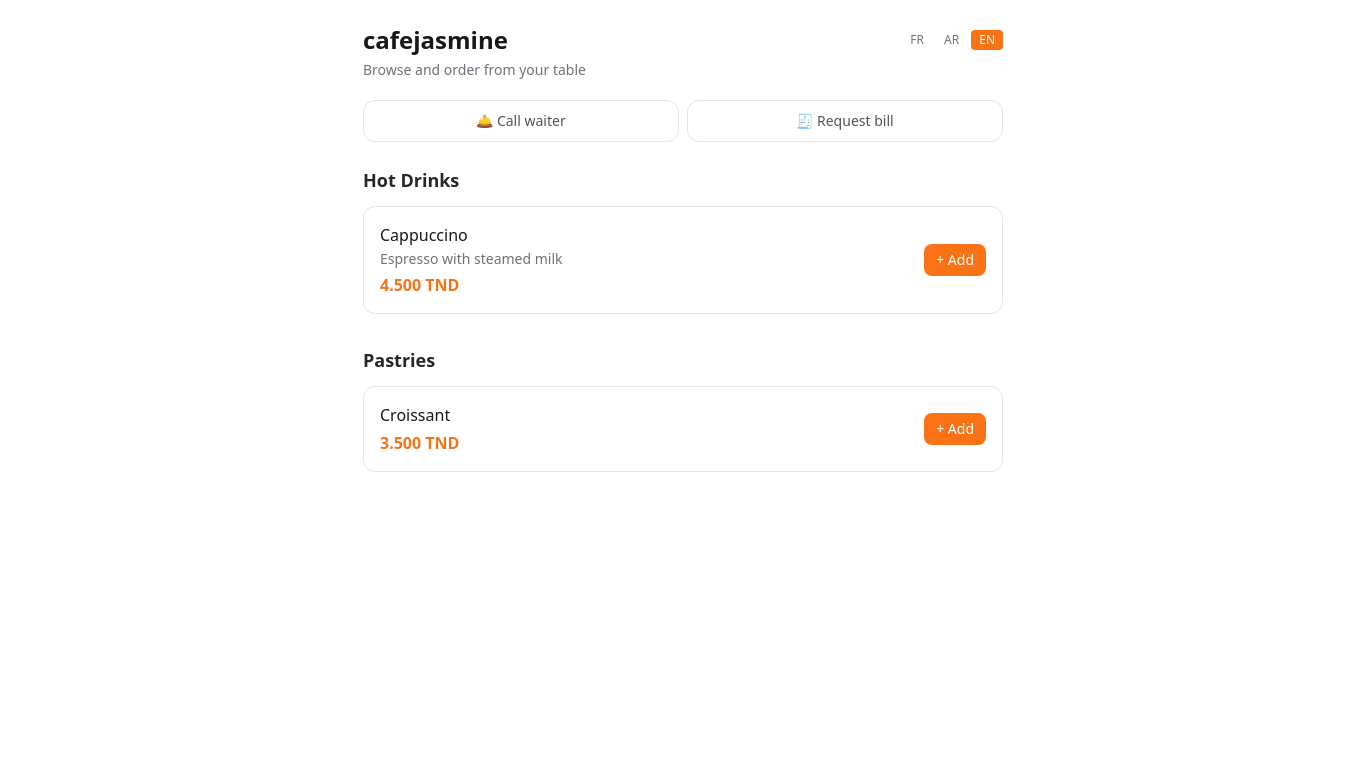
Test: CustomerMenu › removes item from cart when ✕ is clicked
Expected: the text "Cappuccino" is shown, 380,224 -> 468,246
What coordinates should you click on to do the following:
click the button "+ Add" in the row of "Espresso with steamed milk"
I would click on:
 (955, 260)
Its box is 924,244 -> 986,276.
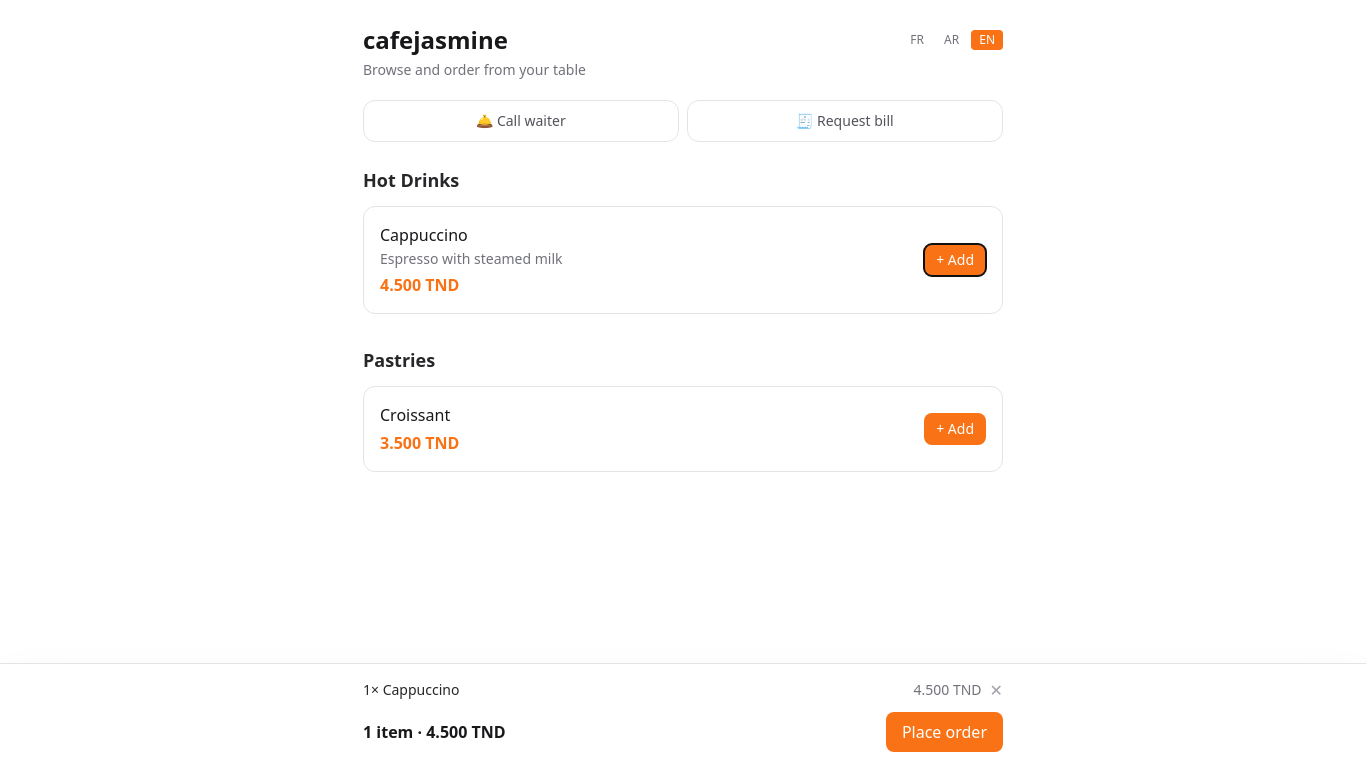
What coordinates should you click on to do the following:
click the button "✕"
I would click on:
 (996, 690)
Its box is 990,682 -> 1003,698.
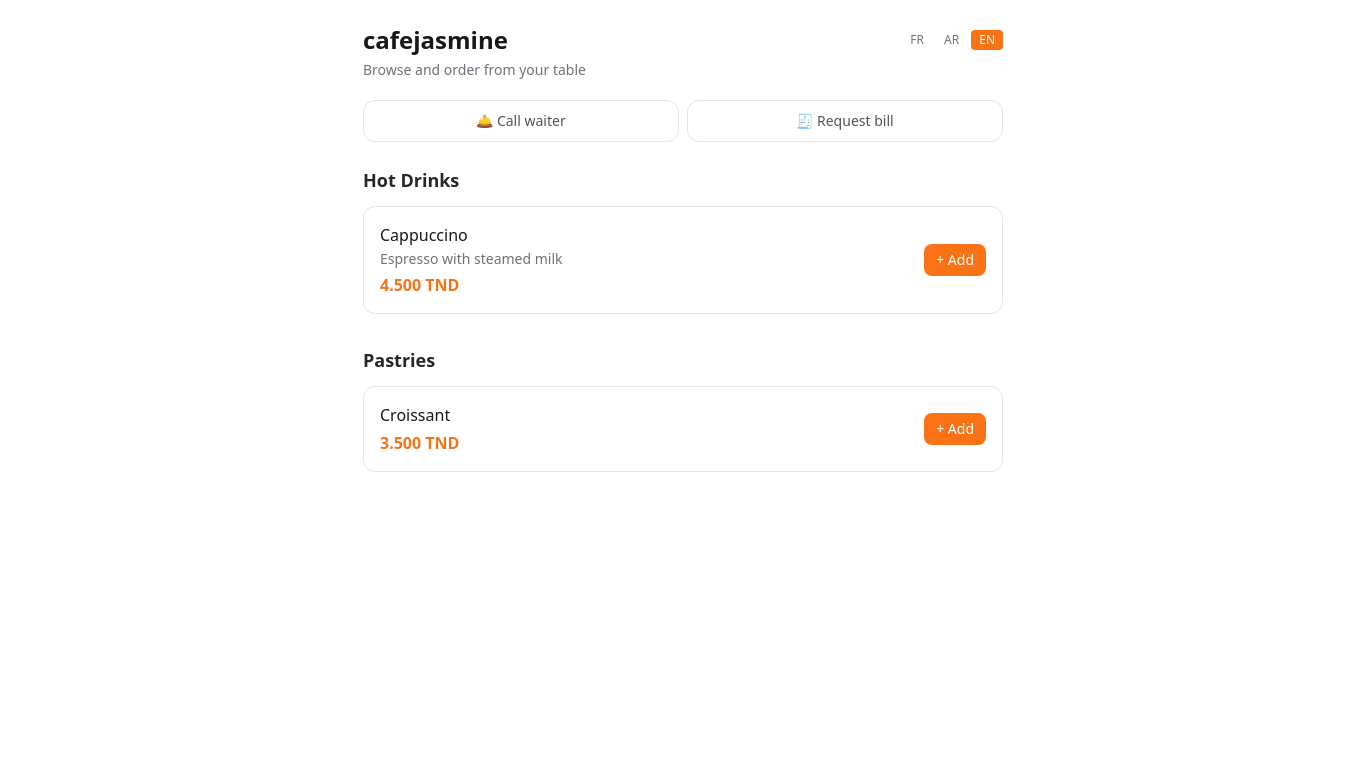
Result: the text "1×" is gone
